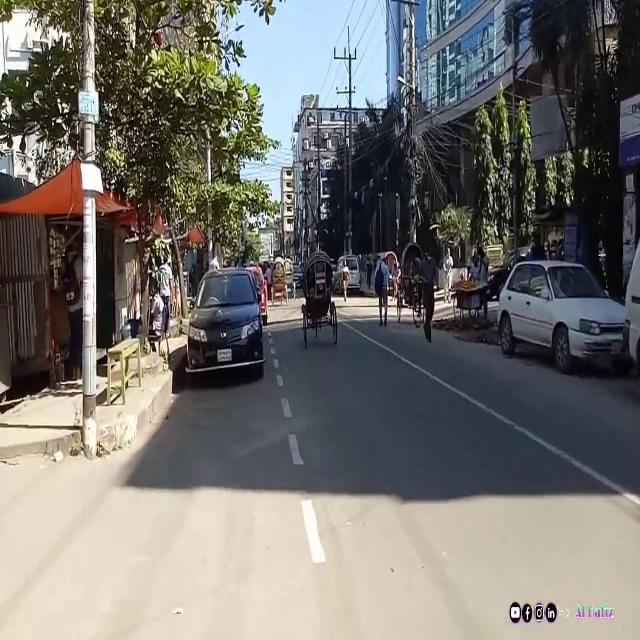black: (183, 265, 268, 391)
white: (495, 258, 632, 384)
